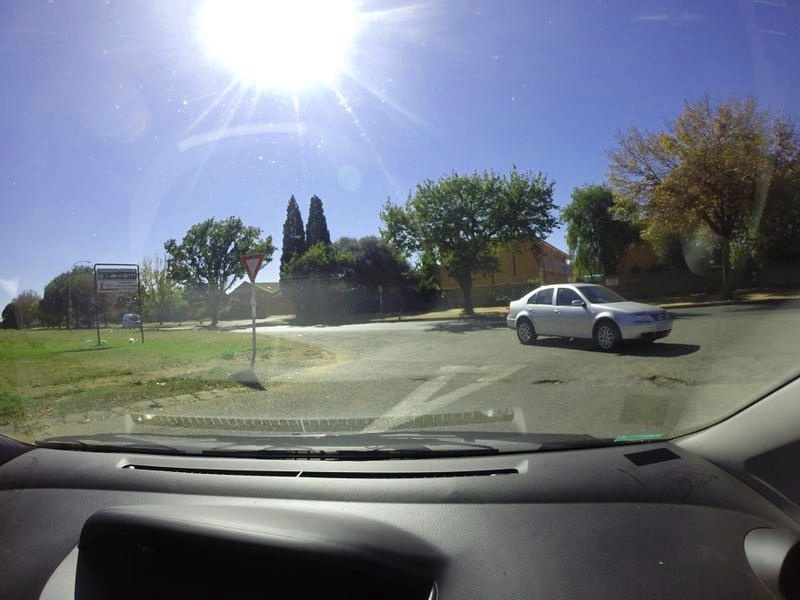pothole: (639, 371, 692, 390), (411, 373, 445, 385), (531, 377, 569, 387)
